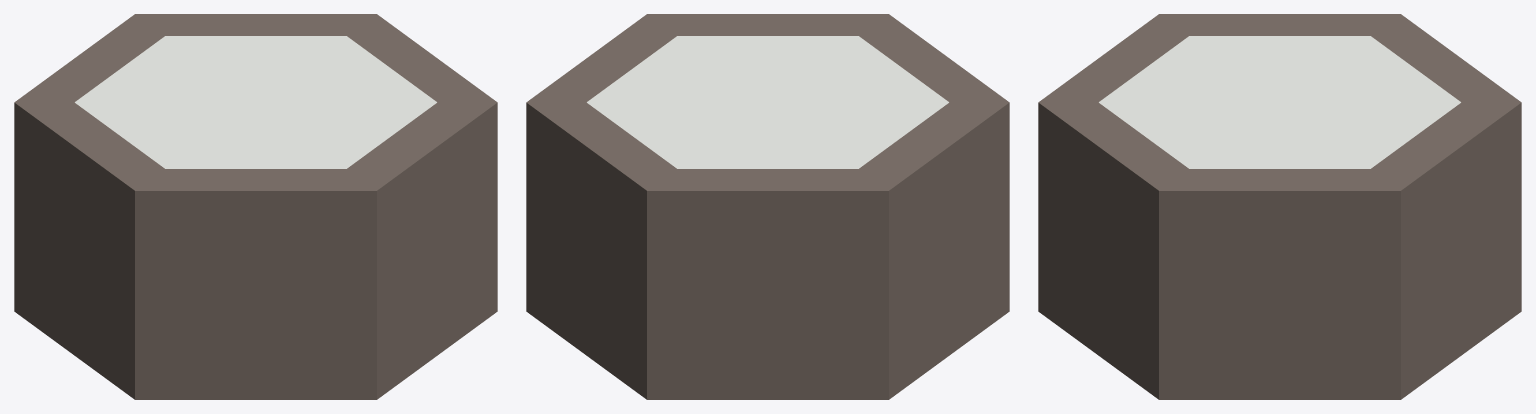
File: light.FBX
3 renders of one model, left to right at view 1: azimuth 30°, elevation 25°; view 2: azimuth 150°, elevation 25°; view 3: azimuth 270°, elevation 25°, orthographic.
Visible parts, largest first — view 1: light; view 2: light; view 3: light.
Boxes of the visible parts, box(x1,y1,x2,y2) form: light: box(14, 14, 497, 399); light: box(526, 14, 1009, 399); light: box(1038, 14, 1521, 399).
Bounding box in the file's own units: 0.115 × 0.0634 × 0.1327.
